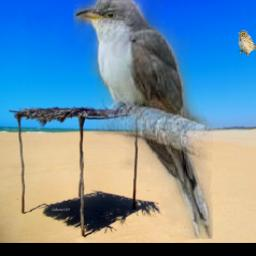Cuckoo: (73, 0, 213, 239)
Sparrow: (238, 30, 256, 57)
